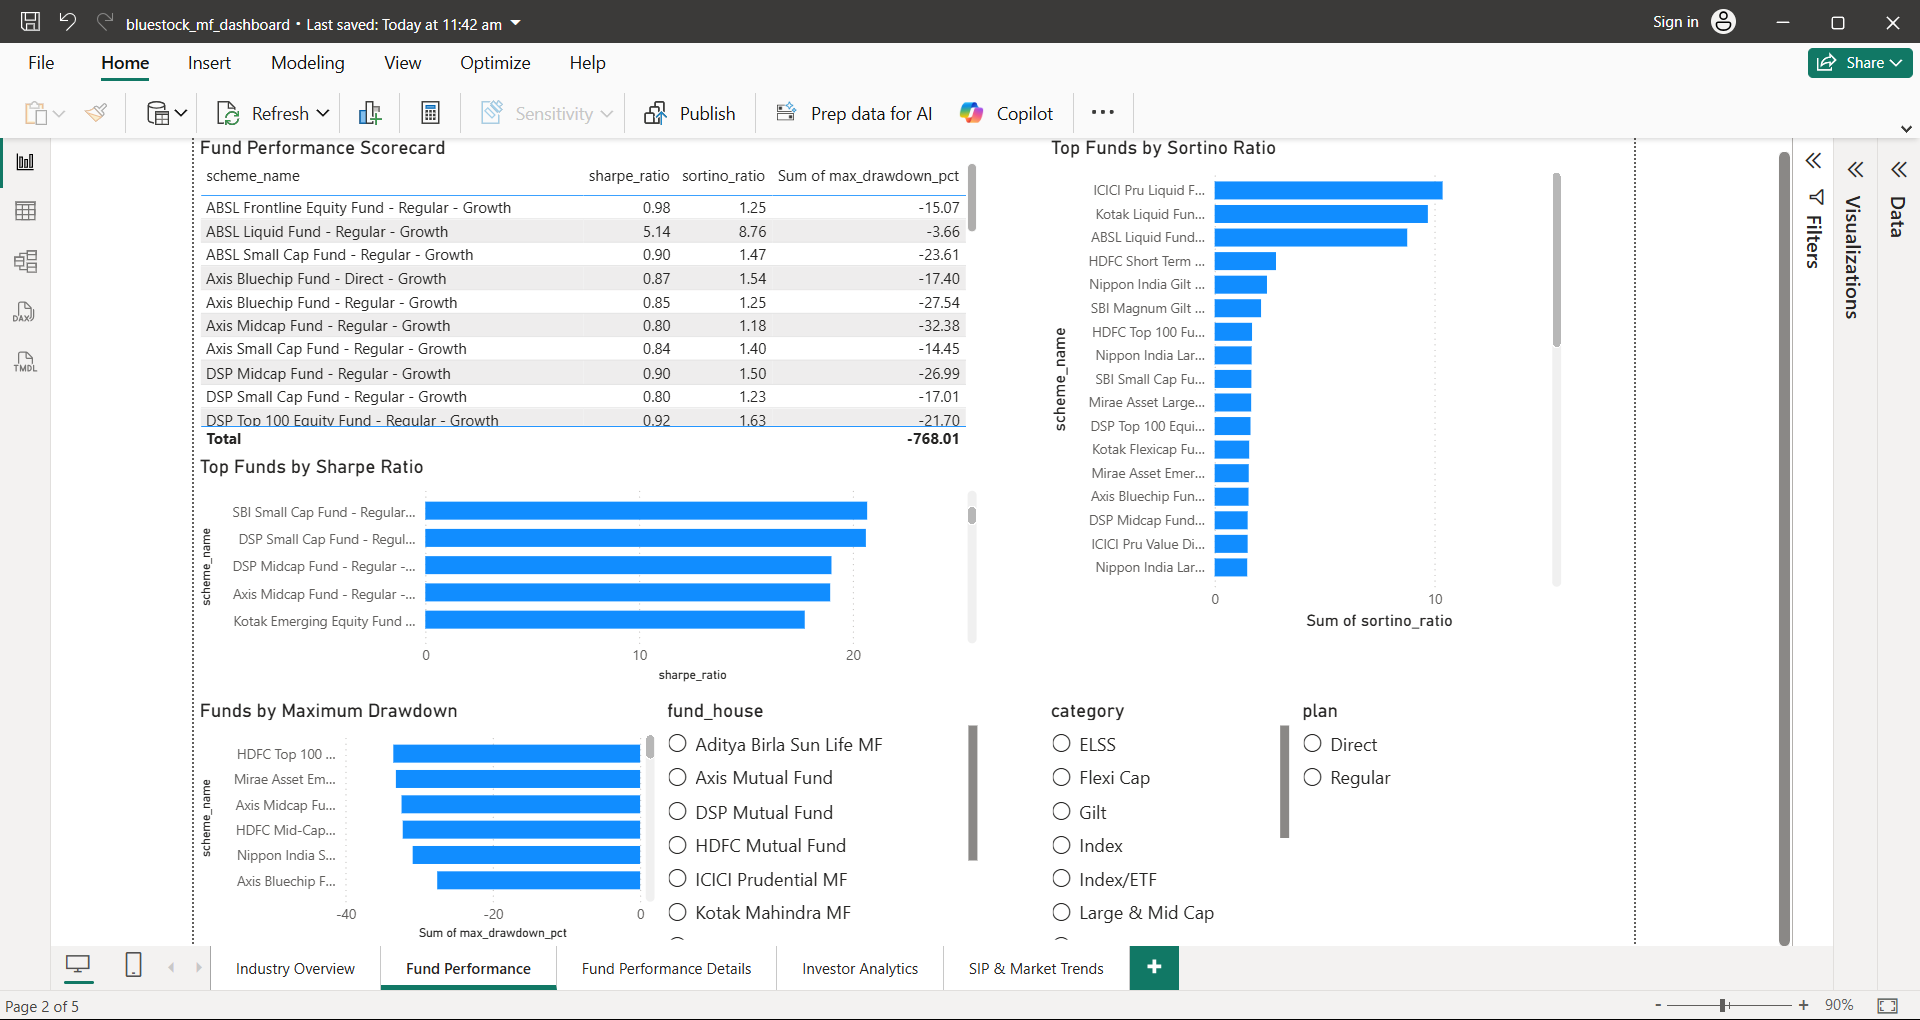

The page's visual inventory and layout, read from the dashboard file:
{"tool":"powerbi","page":{"name":"Fund Performance","canvas":[1280,720],"ordinal":1},"visuals":[{"type":"tableEx","title":"Fund Performance Scorecard","fields":{"Values":["07_scheme_performance.scheme_name","07_scheme_performance.sharpe_ratio","07_scheme_performance.sortino_ratio","Sum(07_scheme_performance.max_drawdown_pct)"]},"box":[0,0,700.8,283.2],"z":0},{"type":"clusteredBarChart","title":"Top Funds by Sharpe Ratio","fields":{"Category":["07_scheme_performance.scheme_name"],"Y":["Sum(07_scheme_performance.return_5yr_pct)"]},"box":[0,283.2,700.8,206.6],"z":1000},{"type":"clusteredBarChart","title":"Top Funds by Sortino Ratio","fields":{"Category":["07_scheme_performance.scheme_name"],"Y":["Sum(07_scheme_performance.sortino_ratio)"]},"box":[757.2,0,463.9,443.6],"z":2000},{"type":"clusteredBarChart","title":"Funds by Maximum Drawdown","fields":{"Category":["07_scheme_performance.scheme_name"],"Y":["Sum(07_scheme_performance.max_drawdown_pct)"]},"box":[0,500,414.7,219.6],"z":3000},{"type":"listSlicer","fields":{"Values":["07_scheme_performance.fund_house"]},"box":[415,500,286,220],"z":4000},{"type":"listSlicer","fields":{"Values":["07_scheme_performance.category"]},"box":[757.2,500,222.5,219.6],"z":5000},{"type":"listSlicer","fields":{"Values":["07_scheme_performance.plan"]},"box":[980,500,241,220],"z":6000}]}

Visuals, with their boxes on the page's 1280x720 design canvas (x1, y1, x2, y2). These are canvas units, not pixel positions in the 1920x1020 screenshot, which may show the page scaled, cropped or inside an application window:
"Fund Performance Scorecard" tableEx: locate(0, 0, 701, 283)
"Top Funds by Sharpe Ratio" clusteredBarChart: locate(0, 283, 701, 490)
"Top Funds by Sortino Ratio" clusteredBarChart: locate(757, 0, 1221, 444)
"Funds by Maximum Drawdown" clusteredBarChart: locate(0, 500, 415, 720)
listSlicer - 07_scheme_performance.fund_house: locate(415, 500, 701, 720)
listSlicer - 07_scheme_performance.category: locate(757, 500, 980, 720)
listSlicer - 07_scheme_performance.plan: locate(980, 500, 1221, 720)
